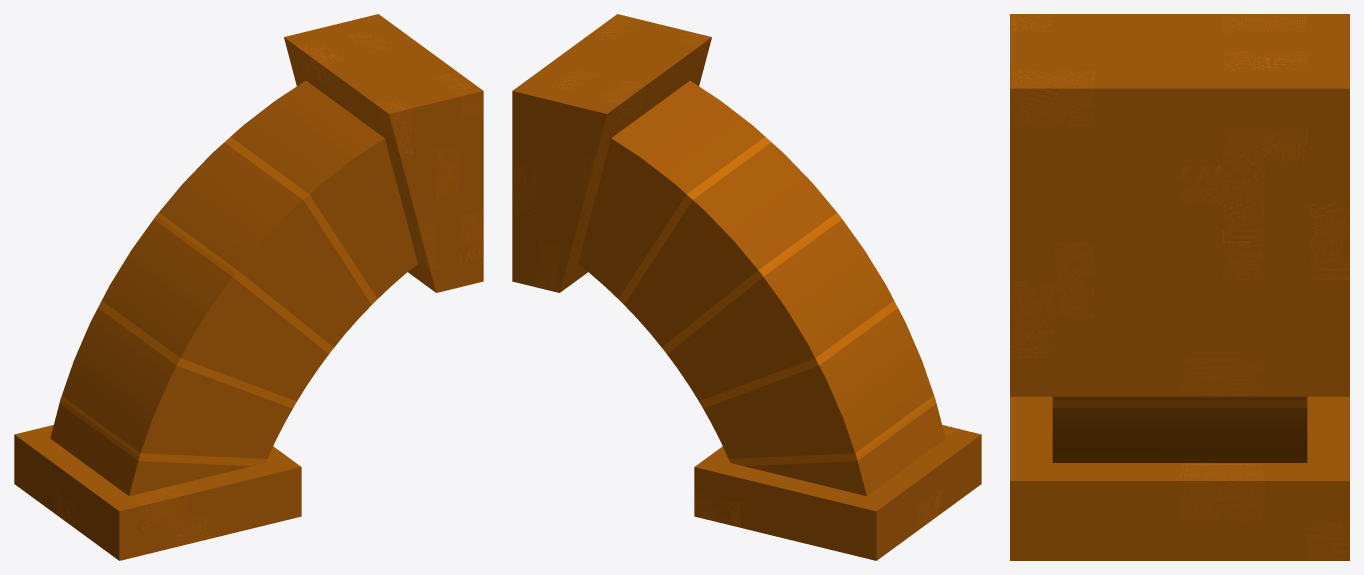
Rendered from HautGaucheV2.fbx.
The picture shows the model from 3 angles, left to right: view 1: azimuth 30°, elevation 25°; view 2: azimuth 150°, elevation 25°; view 3: azimuth 270°, elevation 25°; orthographic projection. The views are drawn at different scales.
Visible parts, largest first — view 1: group_0; view 2: group_0; view 3: group_0.
Boxes of the visible parts, x1,y1,x2,y2 form: group_0: [14, 14, 483, 560]; group_0: [512, 14, 981, 560]; group_0: [1010, 14, 1349, 560].
Bounding box in the file's own units: 7874 × 7874 × 3937.
